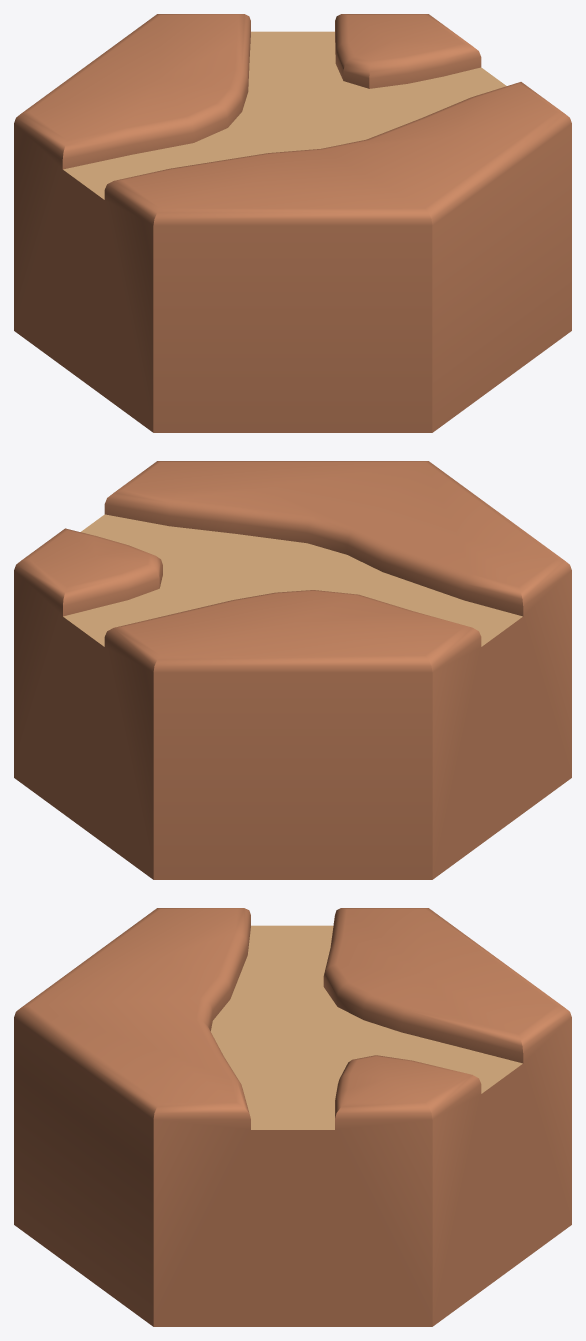
The model's file is kaykit-hex-rock-roadf.glb.
3 views of the same model, one above another, from view 1: azimuth 30°, elevation 25°; view 2: azimuth 150°, elevation 25°; view 3: azimuth 270°, elevation 25° (orthographic).
Parts seen in each view (by area): view 1: hex_rock_roadF; view 2: hex_rock_roadF; view 3: hex_rock_roadF.
Boxes of the visible parts, x1,y1,x2,y2 form: hex_rock_roadF: (14, 14, 571, 432); hex_rock_roadF: (14, 461, 571, 879); hex_rock_roadF: (14, 908, 571, 1326).
Bounding box in the file's own units: 2 × 1 × 2.31.
